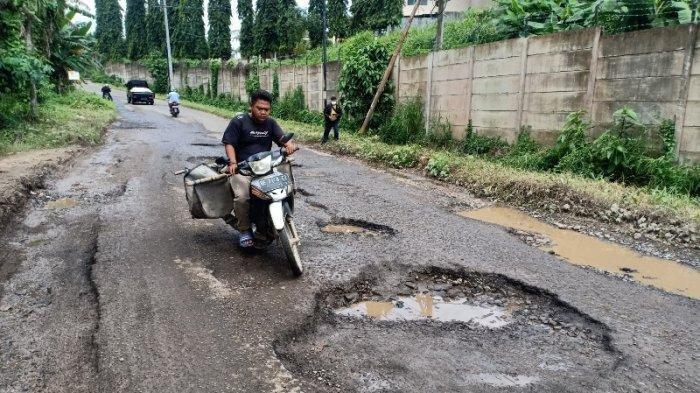Pothole: (381, 139, 700, 318), (221, 265, 629, 393), (0, 133, 146, 362), (268, 174, 417, 251), (117, 107, 224, 152)
